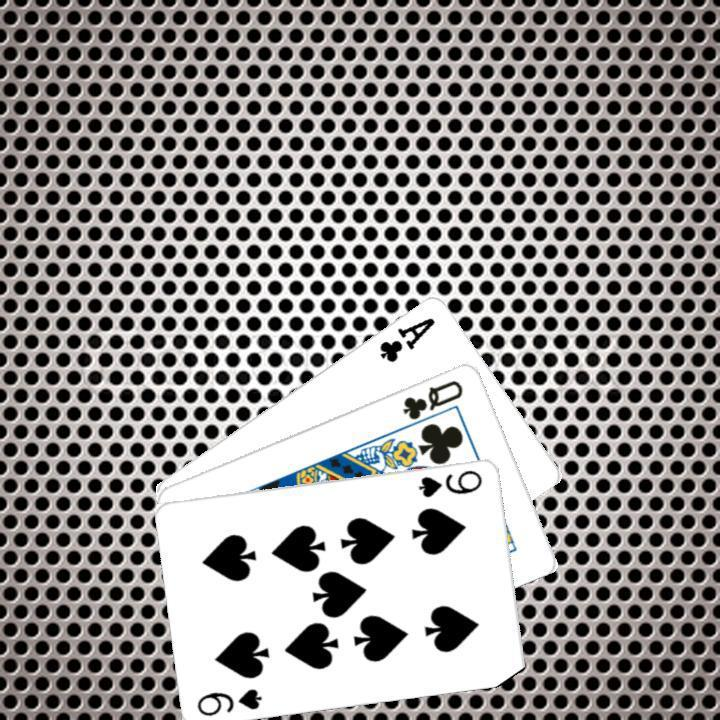9: (193, 683, 264, 718), (414, 465, 485, 499)
A: (375, 312, 438, 364)
Q: (398, 375, 465, 421)
